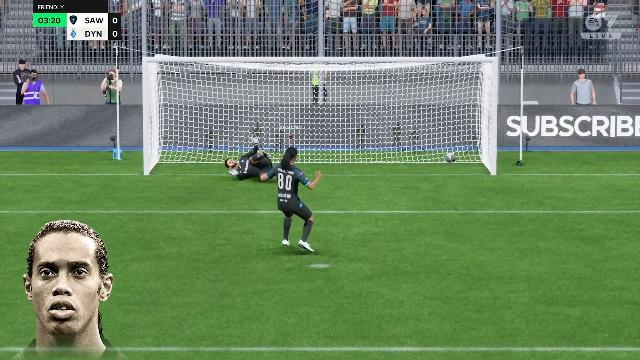football: (439, 152, 457, 164)
goal-bottom-left: (158, 126, 272, 176)
goal-bottom-right: (375, 126, 489, 176)
goal-middle-down: (275, 127, 373, 177)
goal-middle-up: (274, 69, 370, 121)
goal-top-left: (156, 67, 272, 121)
goal-top-right: (374, 66, 490, 122)
goalkeeper: (230, 146, 308, 178)
player: (260, 156, 326, 262)
